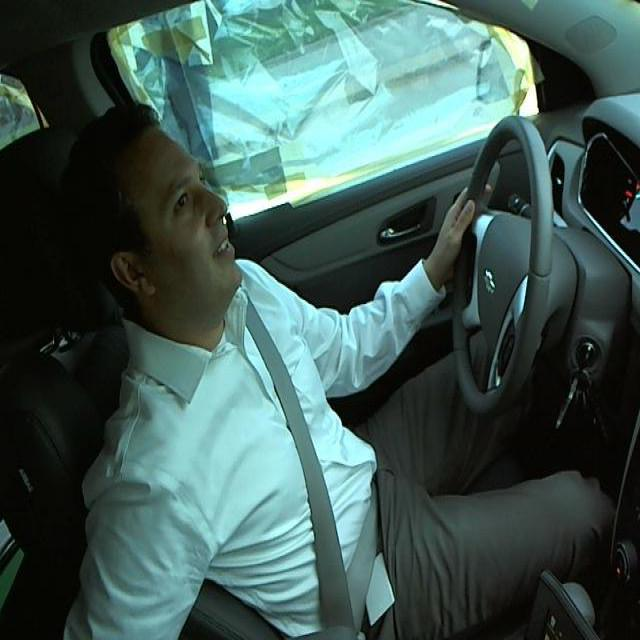seatbelt: (234, 313, 385, 611)
